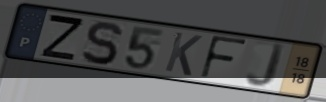5: (124, 24, 167, 71)
F: (197, 34, 250, 82)
J: (243, 41, 288, 91)
K: (162, 30, 204, 79)
S: (80, 20, 124, 67)
Z: (39, 12, 86, 62)
